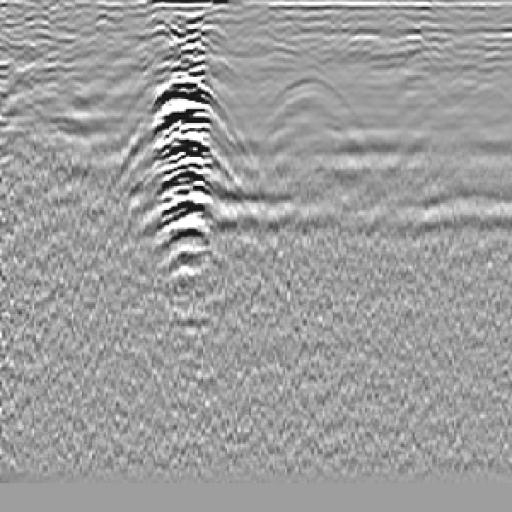metalic: (144, 33, 232, 294)
nonmetalic: (257, 70, 362, 170)
